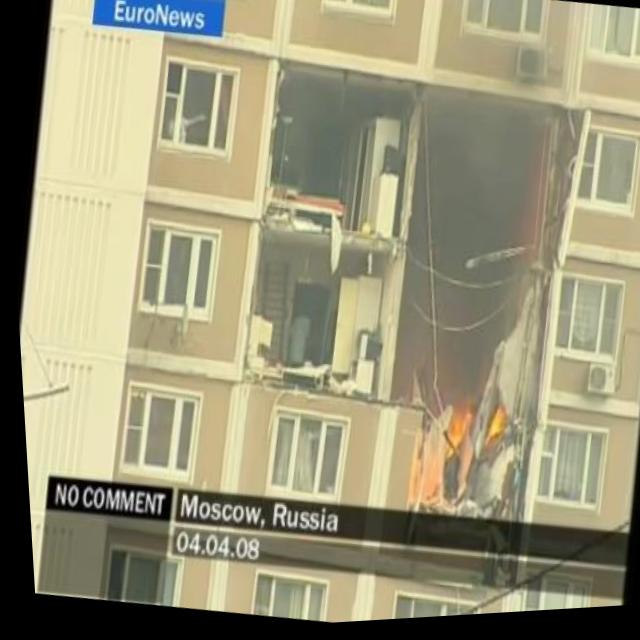fire: (431, 390, 476, 469), (479, 403, 509, 456)
